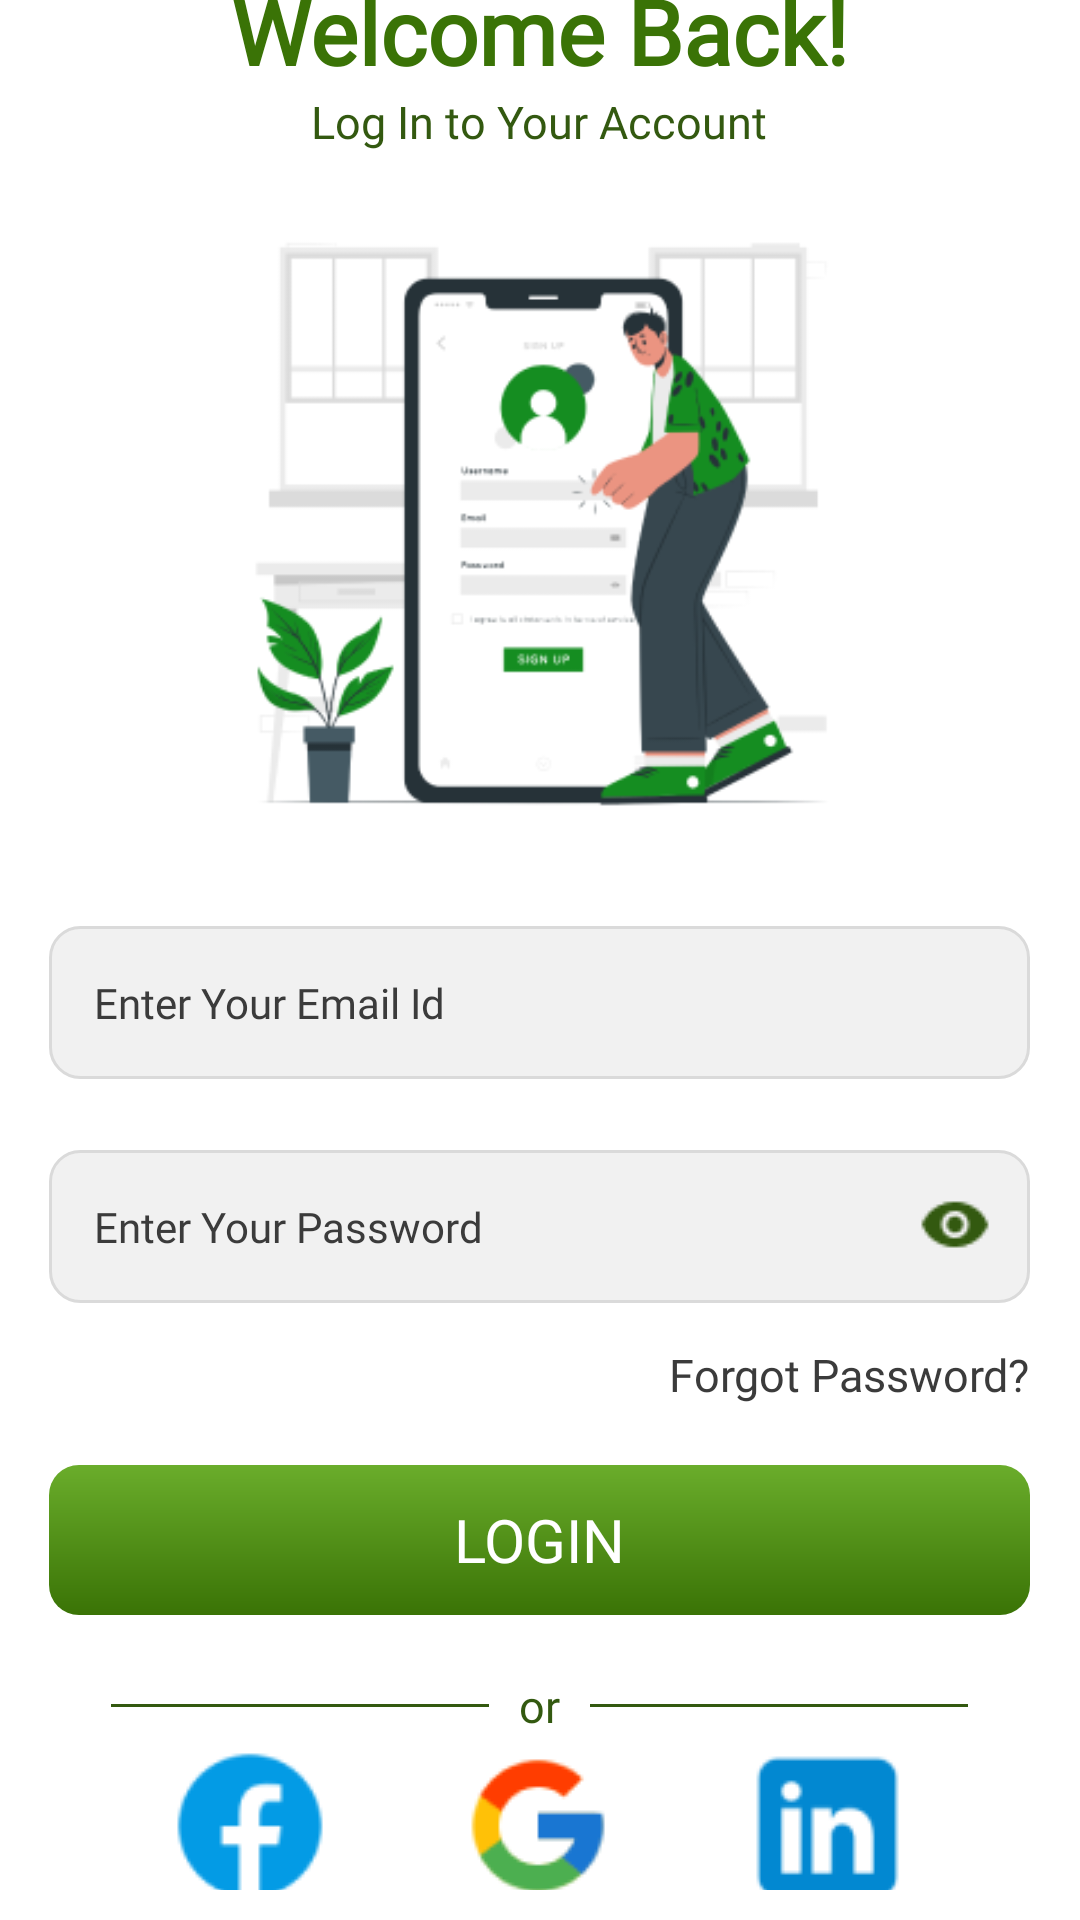

Where icons sit on this 1080 × 1920 app screen, as bbox(x1, y1, x2, y2):
visibility: bbox(921, 1201, 989, 1248)
